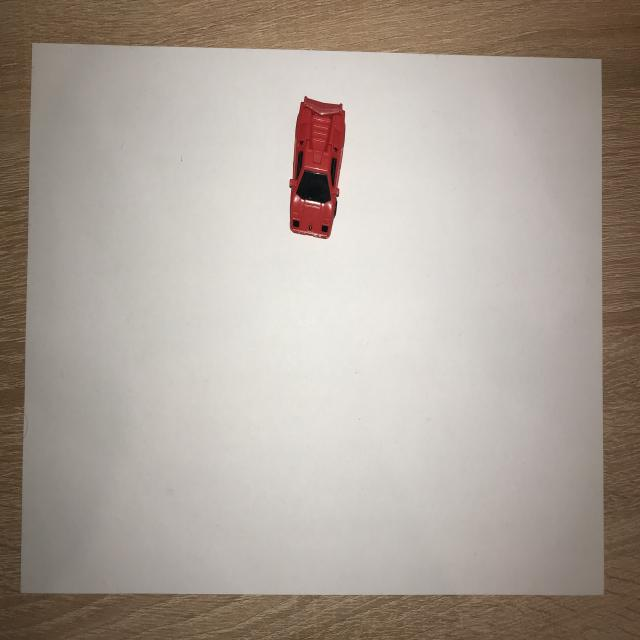car: (282, 86, 351, 245)
